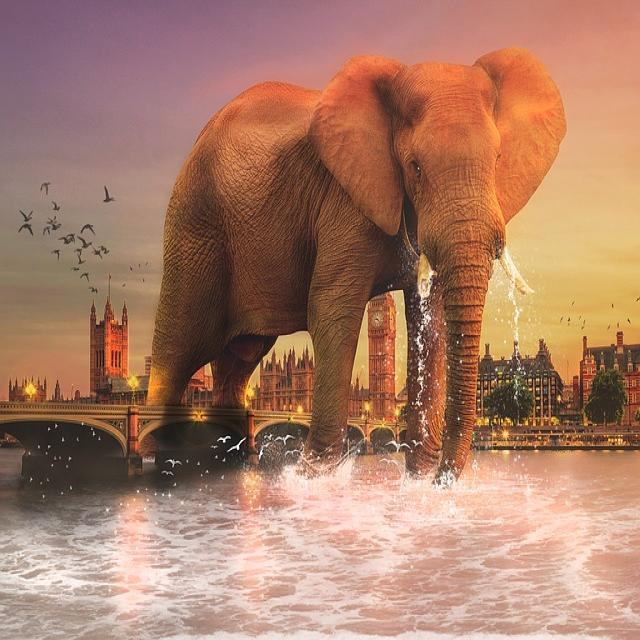FIL: (149, 48, 557, 479)
